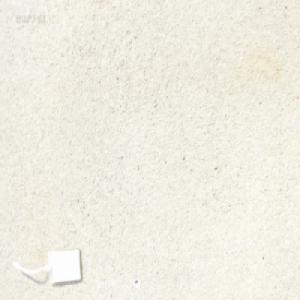LuggageTag: (20, 243, 82, 286)
